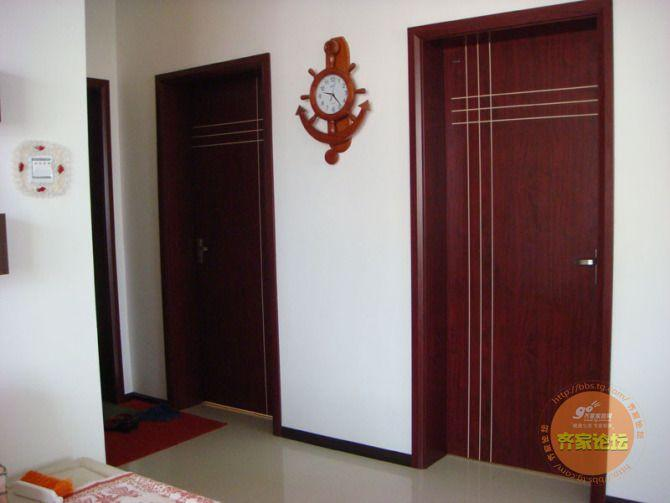door: (445, 42, 599, 481), (180, 83, 276, 410)
